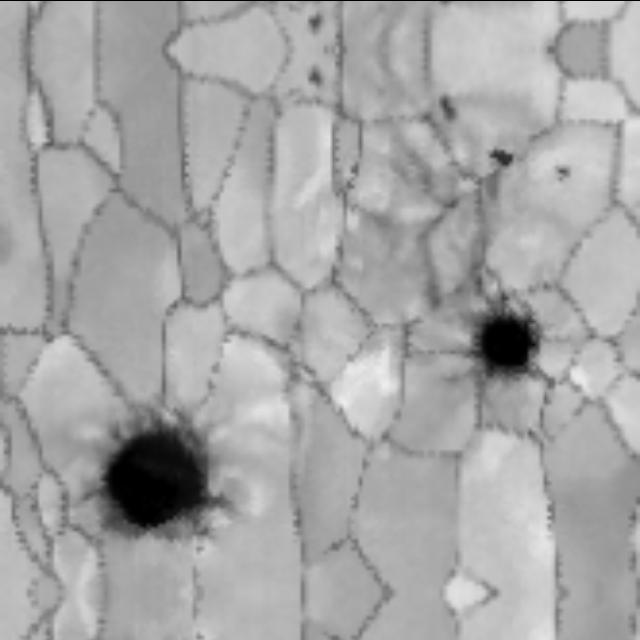good_void: (80, 405, 212, 548), (457, 292, 550, 386), (423, 90, 468, 123), (538, 155, 582, 182), (300, 57, 331, 90), (300, 6, 331, 39), (481, 145, 529, 164), (429, 190, 461, 209)
